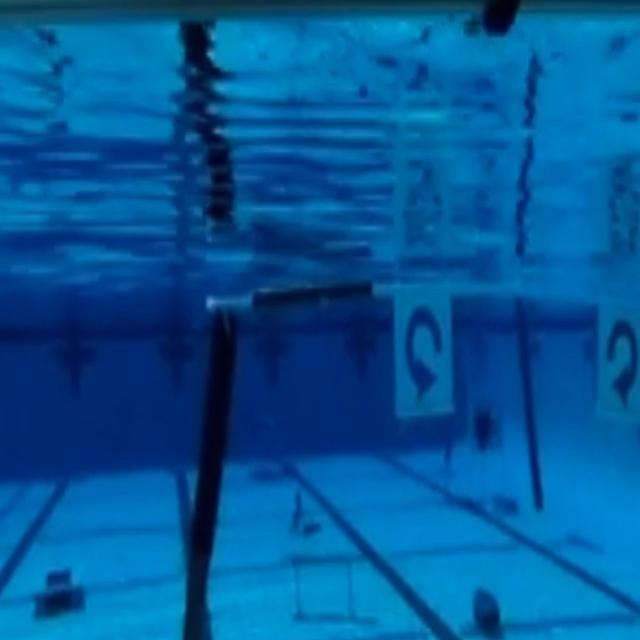Gate: (186, 280, 640, 629)
